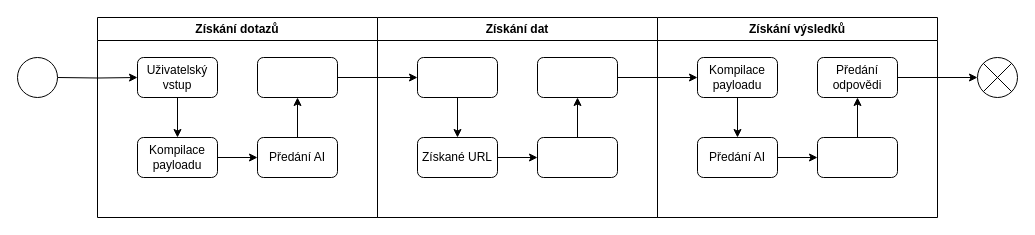
The diagram is 1035 pixels wide and 235 high, and some of its shapes have lost their labels. Each missing label, with the centre of its shape:
"Předání vyhledávači" goes at point 457,77.
"Stažení HTML" goes at point 577,157.
"Vygenerované dotazy" goes at point 297,77.
"Získaná data" goes at point 577,77.
"Získaná odpověď" goes at point 857,157.
